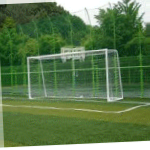goals: (27, 47, 126, 106)
